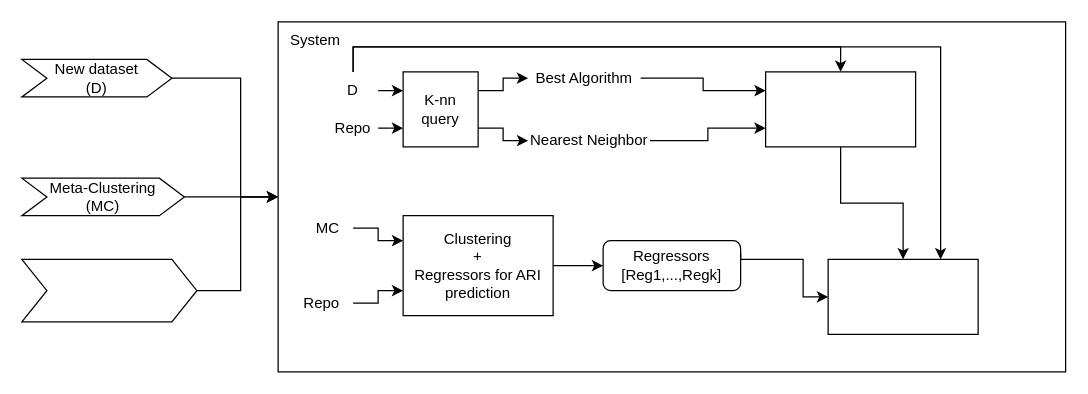
The diagram is 1088 pixels wide and 394 high, and some of its shapes have lost their labels. The centre of each missing label's shape, as x and y in pixels:
"Meta-Knowldegde Repository (Repo)" goes at pixel 109 290.
"Optimization" goes at pixel 902 296.
"Pre-Optimization" goes at pixel 840 109.
